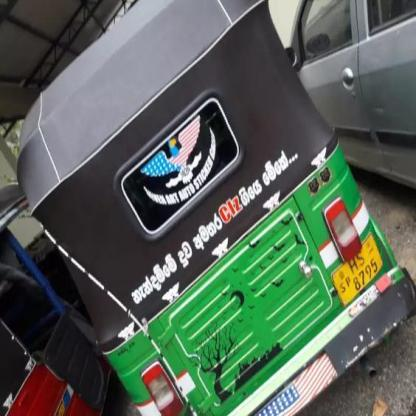number plate: (335, 247, 379, 296)
three wheeler back: (11, 0, 414, 416)
